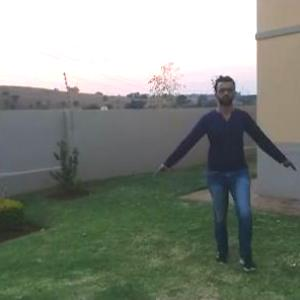land: (159, 77, 296, 271)
